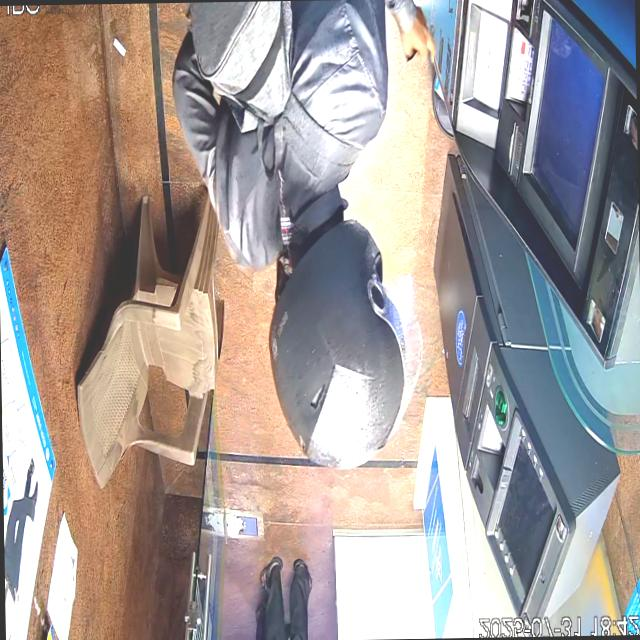helmet: (268, 206, 422, 469)
